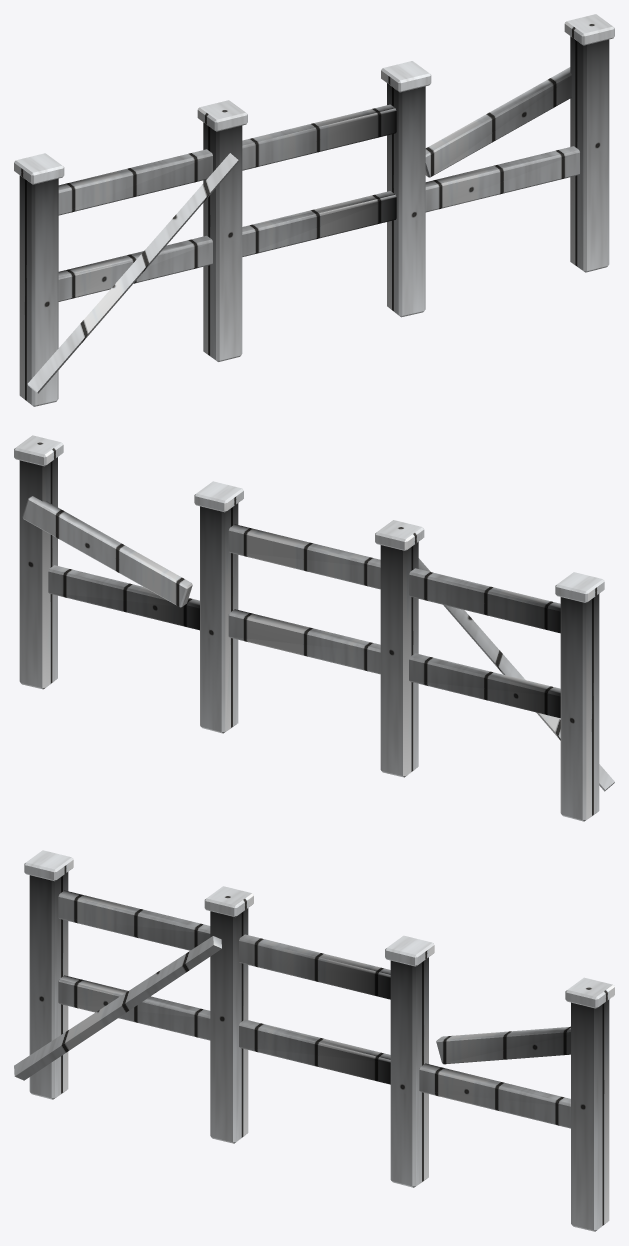
3 views of the same model, one above another, from view 1: azimuth 30°, elevation 25°; view 2: azimuth 150°, elevation 25°; view 3: azimuth 330°, elevation 25° (orthographic).
Visible parts, largest first — view 1: fence_M_wood_dark, fence_M_wood; view 2: fence_M_wood_dark, fence_M_wood; view 3: fence_M_wood_dark, fence_M_wood.
Boxes of the visible parts, x1,y1,x2,y2 form: fence_M_wood_dark: (19, 36, 609, 406); fence_M_wood: (14, 14, 614, 301); fence_M_wood_dark: (19, 457, 614, 821); fence_M_wood: (14, 435, 604, 718); fence_M_wood_dark: (14, 872, 609, 1231); fence_M_wood: (24, 850, 614, 1128).
Bounding box in the file's own units: 2.58 × 1.02 × 0.21.
Materials: 2 (2 with a texture image).
